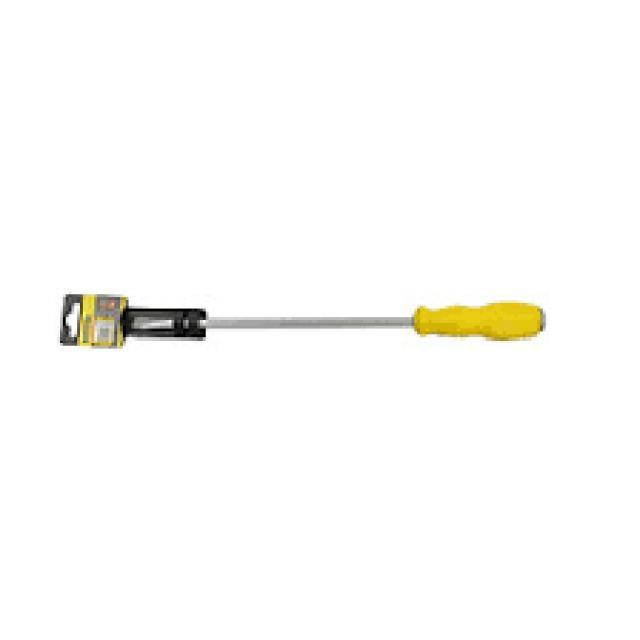screwdriver: (126, 294, 544, 346)
